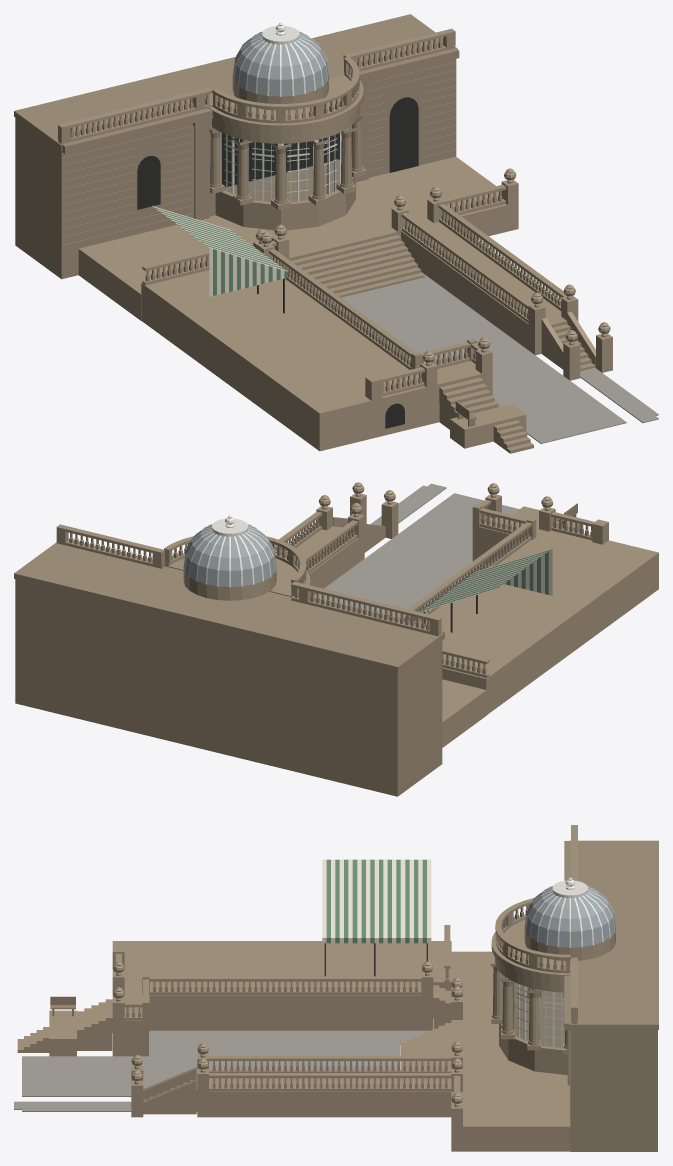
The model's file is pullman_house_1729_prairie_conservatory__as_standing_1904.glb.
The picture shows the model from 3 angles, top to bottom: view 1: azimuth 30°, elevation 25°; view 2: azimuth 150°, elevation 25°; view 3: azimuth 270°, elevation 25°; orthographic projection. The views are drawn at different scales.
Parts seen in each view (by area): view 1: pullman_house_1729_prairie_conservatory__as_standing_1904; view 2: pullman_house_1729_prairie_conservatory__as_standing_1904; view 3: pullman_house_1729_prairie_conservatory__as_standing_1904.
Boxes of the visible parts, x1,y1,x2,y2 form: pullman_house_1729_prairie_conservatory__as_standing_1904: (14,14,658,453); pullman_house_1729_prairie_conservatory__as_standing_1904: (14,482,658,796); pullman_house_1729_prairie_conservatory__as_standing_1904: (14,825,658,1151).
Bounding box in the file's own units: 21.92 × 10.73 × 32.5.
